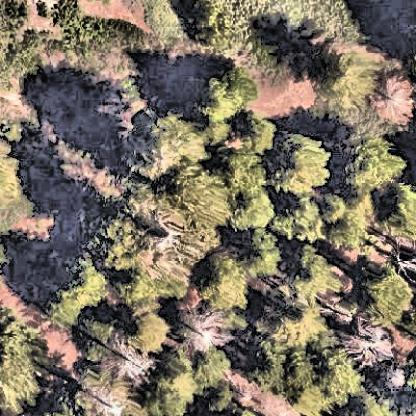tree-top: (251, 314, 369, 407), (84, 199, 172, 273), (121, 109, 204, 183), (174, 54, 254, 129), (272, 236, 352, 309), (327, 133, 408, 200), (191, 243, 264, 315), (262, 125, 333, 197), (1, 307, 45, 415), (43, 249, 103, 323), (318, 45, 378, 108), (137, 364, 199, 416), (356, 263, 410, 321), (219, 143, 266, 201), (183, 1, 236, 50), (375, 183, 416, 245), (120, 309, 175, 355), (235, 185, 280, 237), (284, 196, 322, 241), (313, 190, 352, 231)
